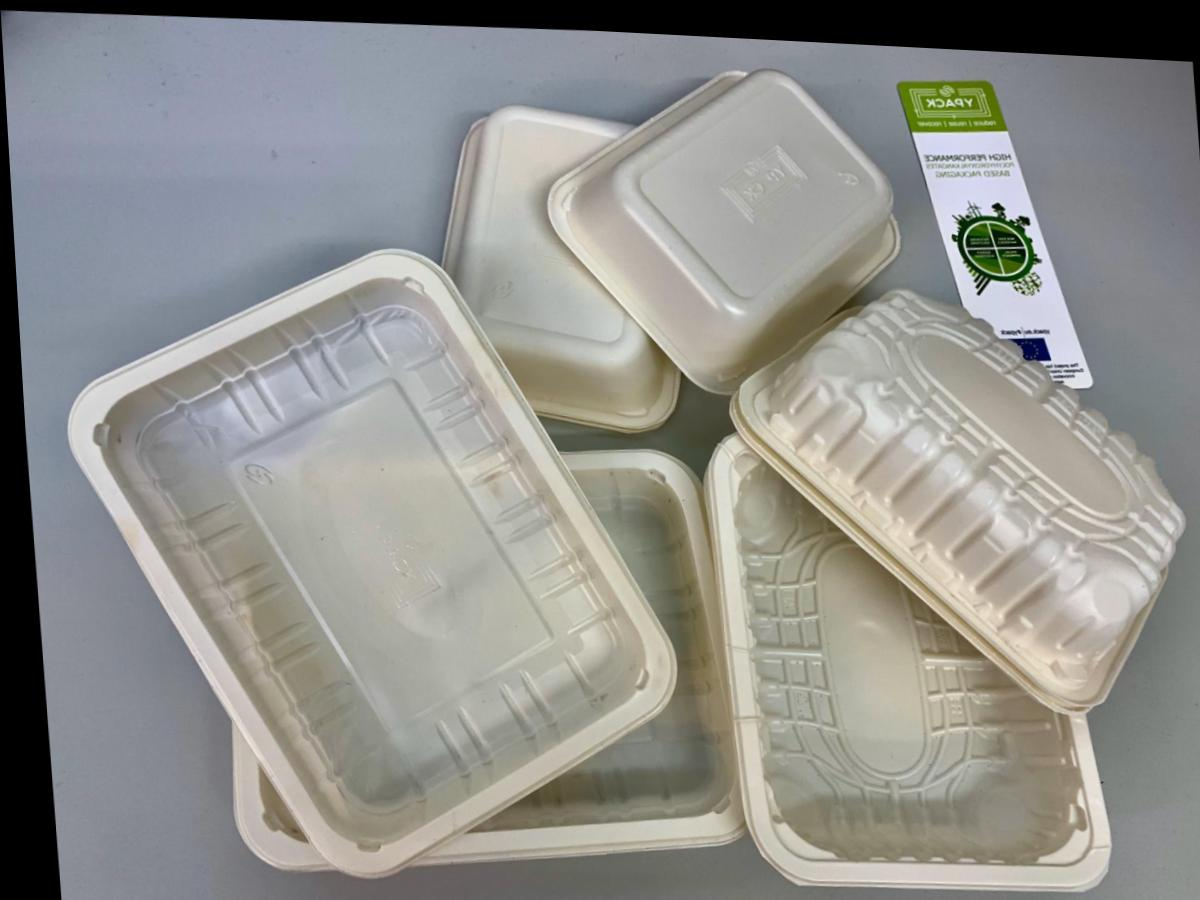plastic: (69, 250, 740, 876), (707, 290, 1183, 889), (444, 70, 898, 431), (898, 81, 1092, 388)
